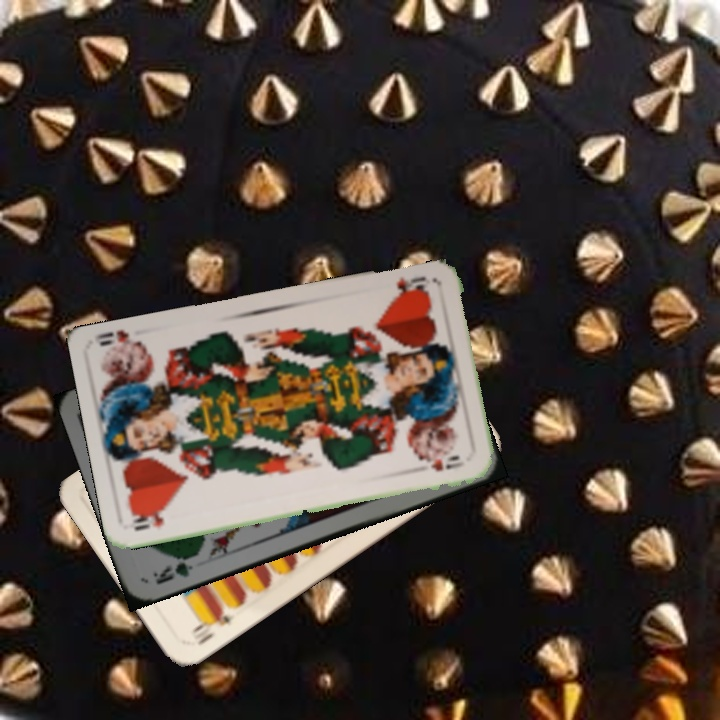E10: (187, 604, 234, 649)
GK: (149, 550, 200, 587)
HO: (388, 272, 431, 301), (127, 506, 171, 533)
